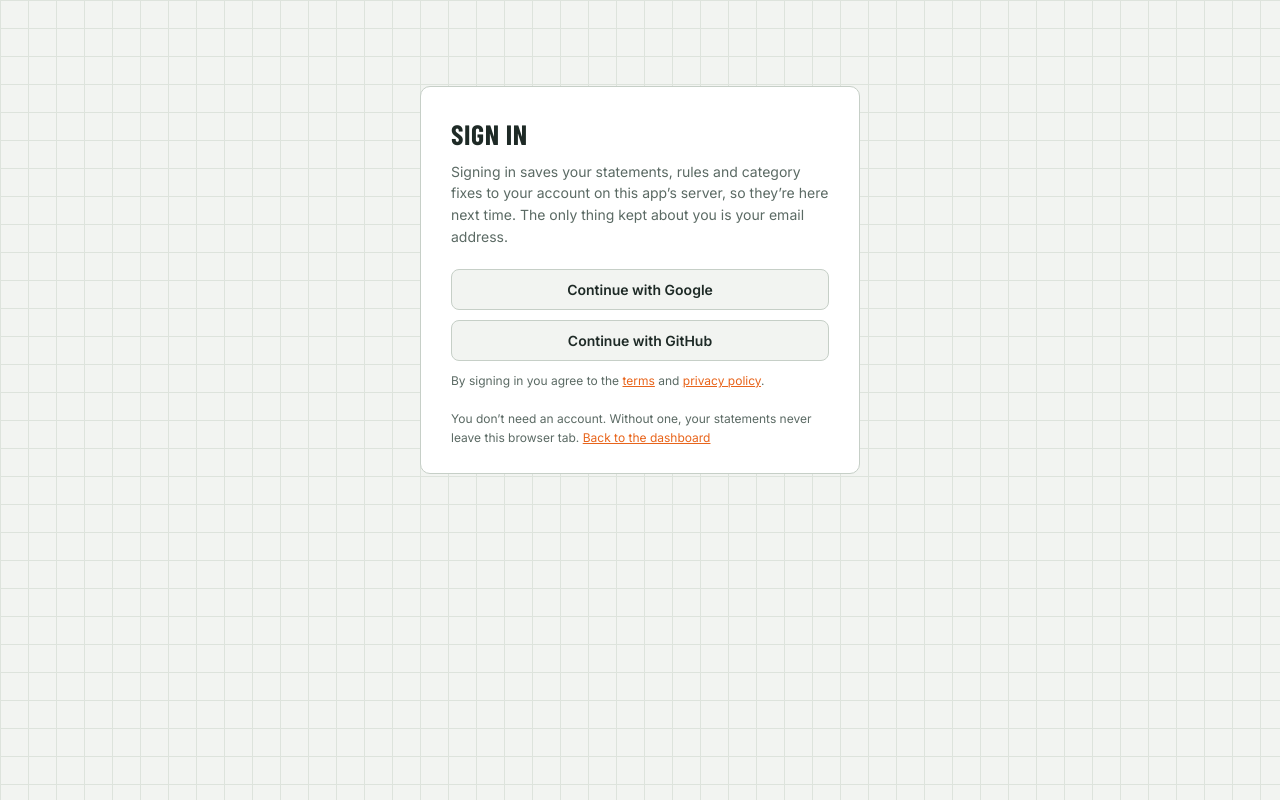
Test: SignInScreen › explains a provider that is not configured
The image size is (1280, 800).
Click the button "Continue with Google" at (640, 290), box [451,269,829,310]
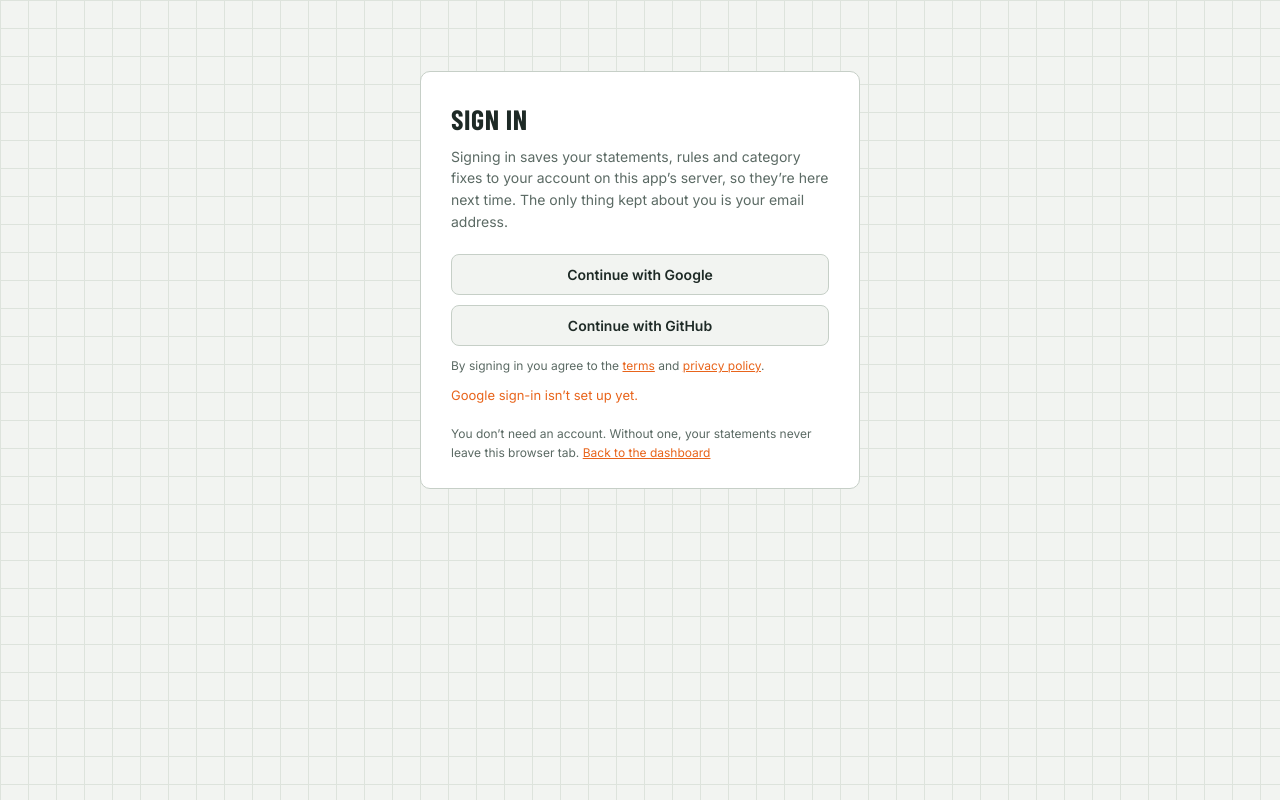
Expected: the button "Continue with Google" is enabled, [451,254,829,295]
Expected: the message reads "Google sign-in isn’t set up yet.", [451,387,638,403]
